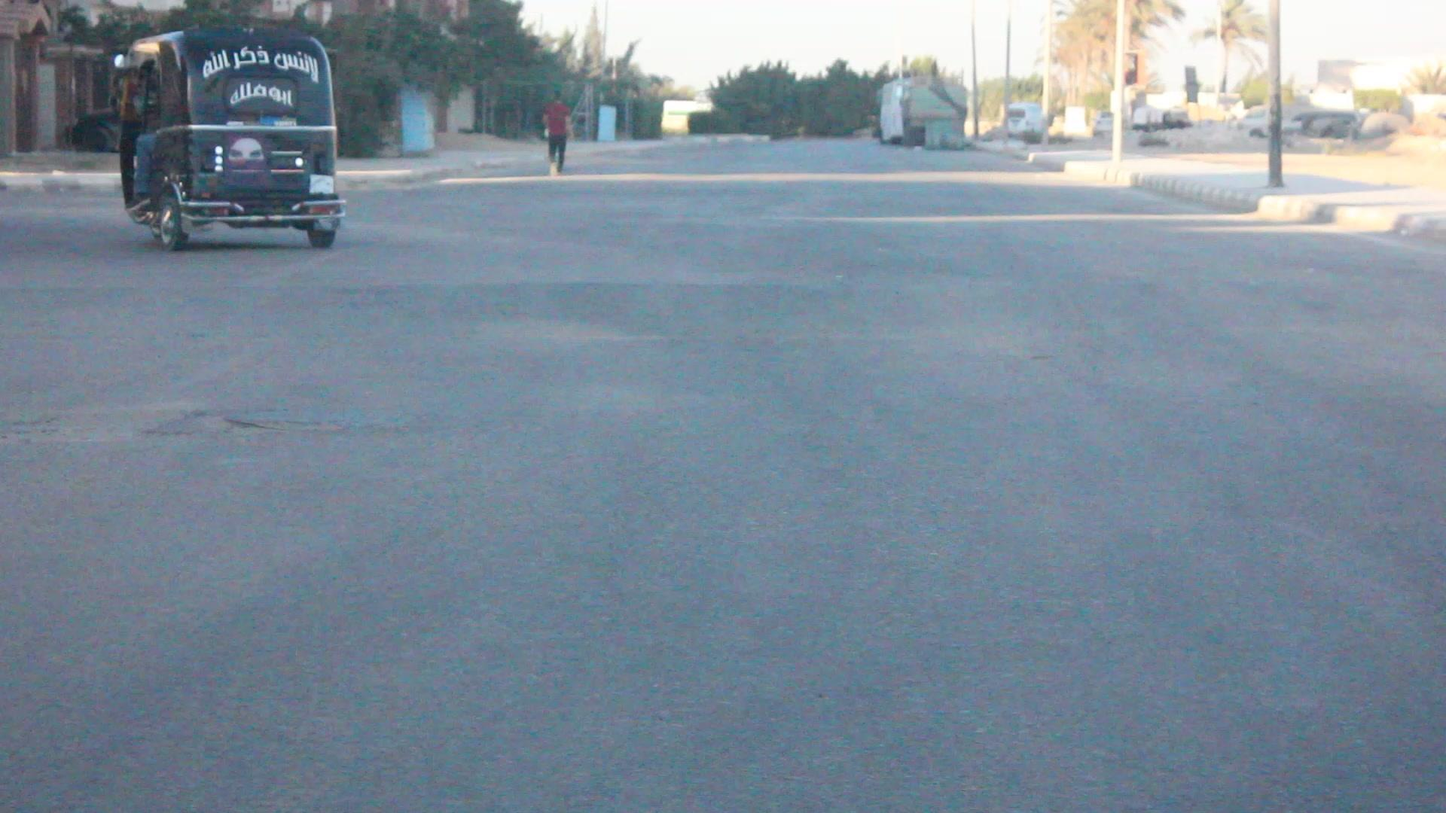Bump: (9, 279, 1446, 343)
Pothole: (32, 399, 360, 463)
